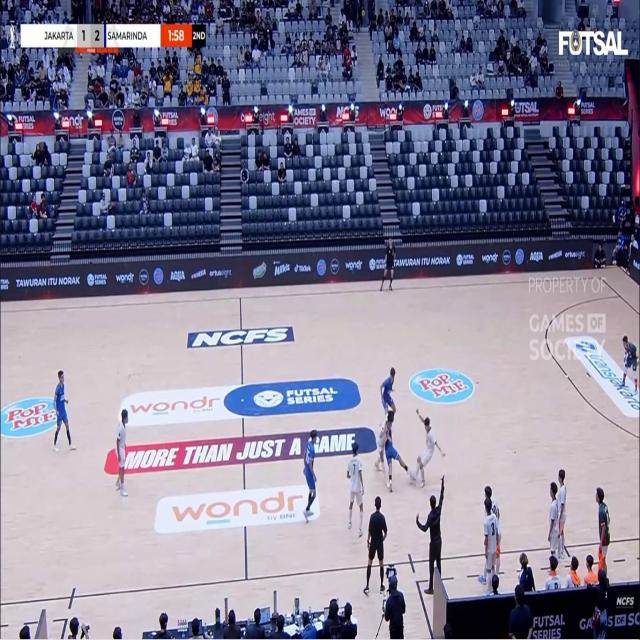keeper: (622, 335, 637, 391)
referee: (364, 496, 387, 594), (380, 239, 395, 290)
